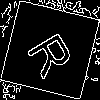R: (25, 25, 83, 80)
